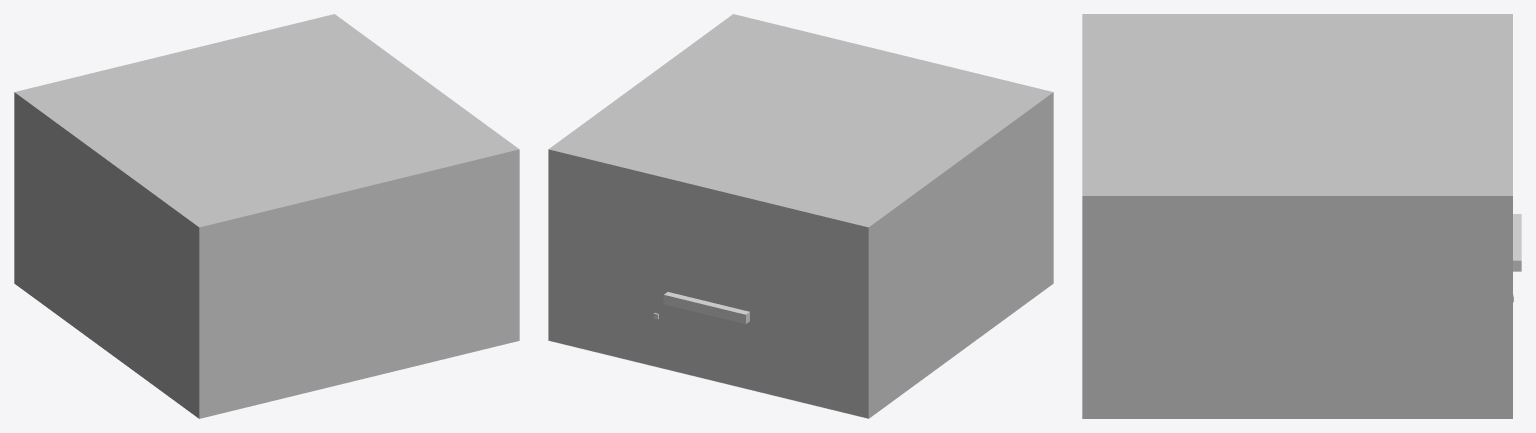
Rendered from [test]luminosity_room.FBX.
3 renders of one model, left to right at view 1: azimuth 30°, elevation 25°; view 2: azimuth 150°, elevation 25°; view 3: azimuth 270°, elevation 25°, orthographic. The views are drawn at different scales.
Parts seen in each view (by area): view 1: wall002, roof, wall001; view 2: wall003, roof, wall001, colorRamp_BlackAndWhite; view 3: wall004, roof, colorRamp_BlackAndWhite.
Boxes of the visible parts, x1,y1,x2,y2 form: wall002: (199, 149, 519, 418); roof: (14, 14, 518, 227); wall001: (14, 92, 199, 418); wall003: (548, 149, 868, 418); roof: (549, 14, 1053, 227); wall001: (868, 92, 1053, 418); colorRamp_BlackAndWhite: (663, 292, 749, 324); wall004: (1082, 196, 1512, 418); roof: (1082, 14, 1512, 195); colorRamp_BlackAndWhite: (1513, 214, 1521, 271).
Size of the model in its own units: 700 by 400 by 714.
